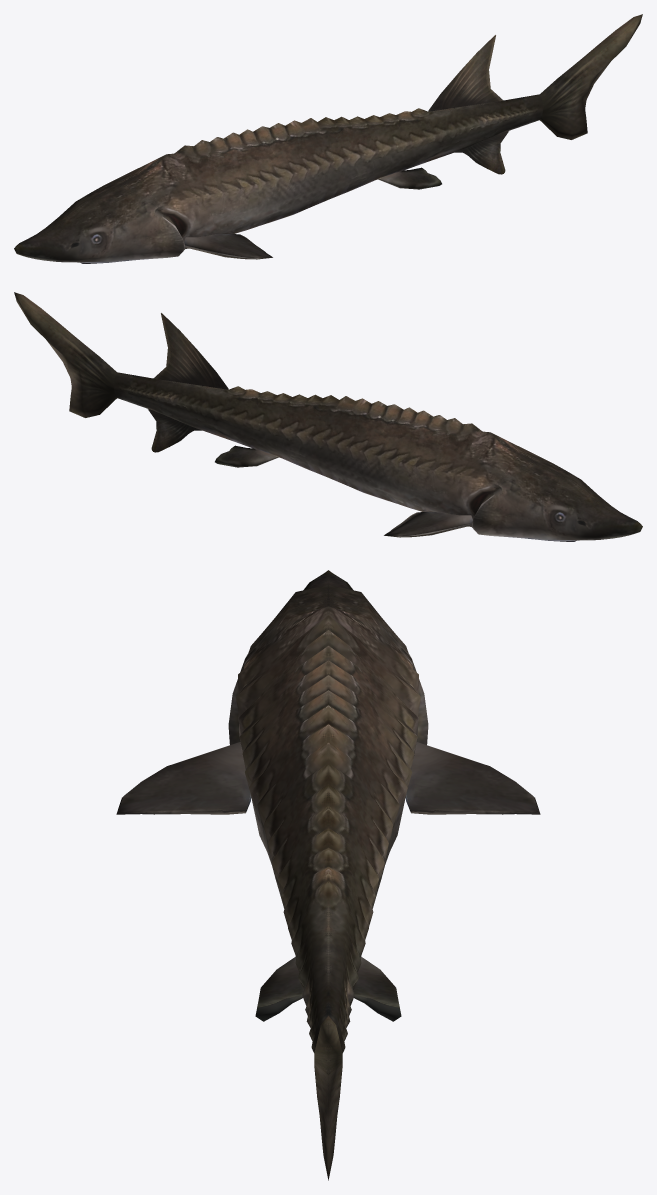
The model's file is zhonghuaxun.FBX.
The picture shows the model from 3 angles, top to bottom: view 1: azimuth 30°, elevation 25°; view 2: azimuth 150°, elevation 25°; view 3: azimuth 270°, elevation 25°; orthographic projection. The views are drawn at different scales.
Visible parts, largest first — view 1: zhonghuaxun; view 2: zhonghuaxun; view 3: zhonghuaxun.
Boxes of the visible parts, x1=… form: zhonghuaxun: x1=14, y1=14, x2=642, y2=263; zhonghuaxun: x1=14, y1=292, x2=642, y2=541; zhonghuaxun: x1=116, y1=570, x2=540, y2=1180.
Bounding box in the file's own units: 131 × 27.95 × 38.11.
Materials: 1 (1 with a texture image).
